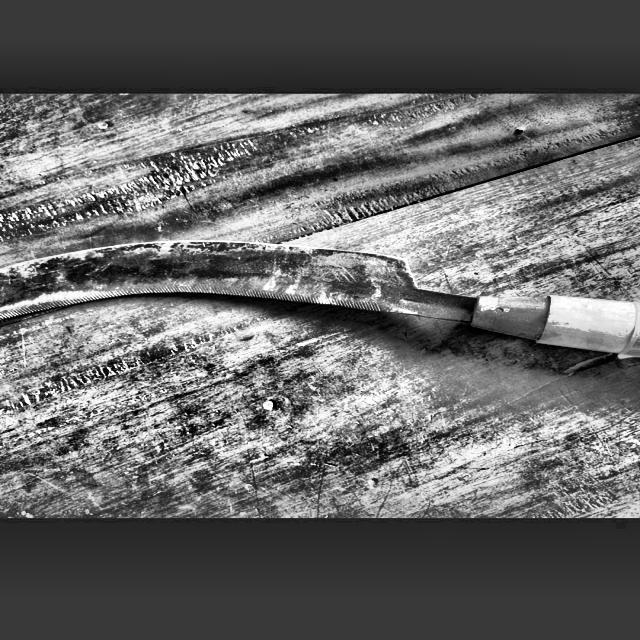celurit: (1, 235, 639, 367)
